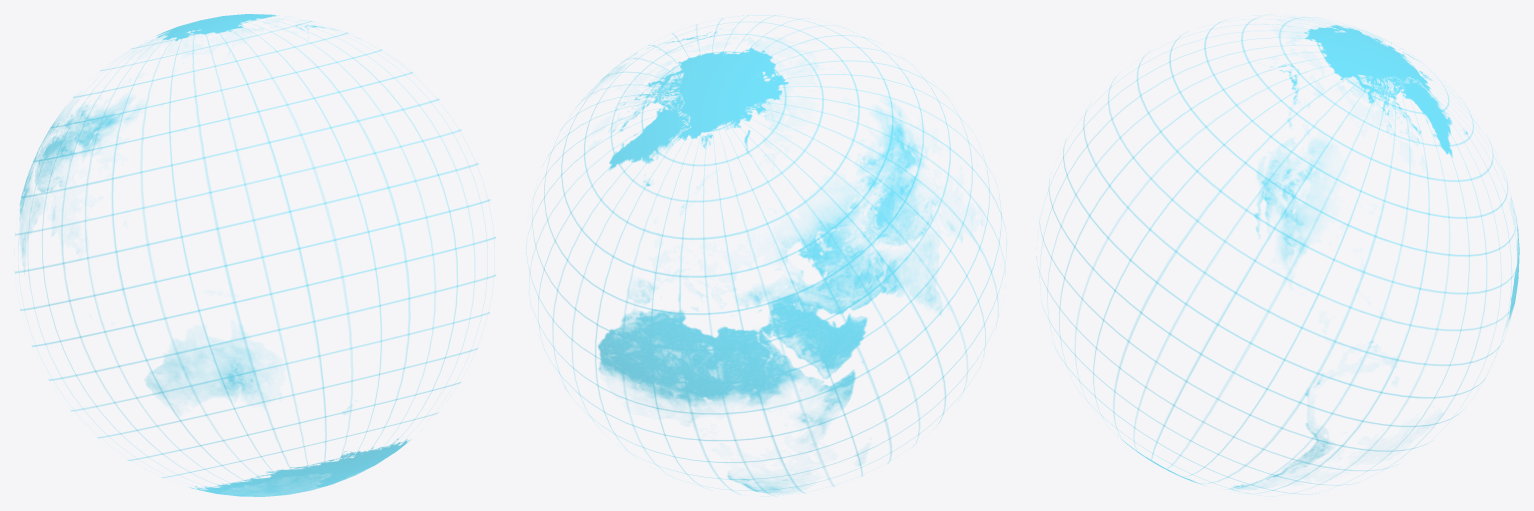
File: EARTH.glb
The picture shows the model from 3 angles, left to right: view 1: azimuth 30°, elevation 25°; view 2: azimuth 150°, elevation 25°; view 3: azimuth 270°, elevation 25°; orthographic projection.
Visible parts, largest first — view 1: Earth globe glowing hologram; view 2: Earth globe glowing hologram; view 3: Earth globe glowing hologram.
Part boxes in pixels (bbox=[...]): Earth globe glowing hologram: bbox=[15, 14, 495, 496]; Earth globe glowing hologram: bbox=[530, 15, 1001, 494]; Earth globe glowing hologram: bbox=[1039, 17, 1519, 493].
Size of the model in its own units: 1.28 by 1.28 by 1.28.
Materials: 1 (1 with a texture image).
